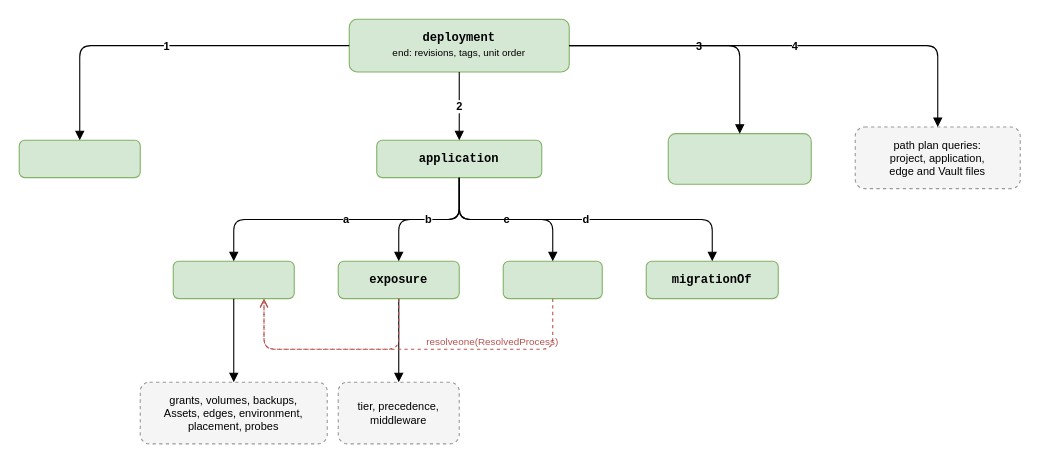
Image size: 1040x463. Some labels were removed from this diagram. The centre of each missing label's shape, as x and y in pixels:
gate: (552,279)
process: (233,279)
provenance end: render hash: (739,158)
unit: (79,158)
